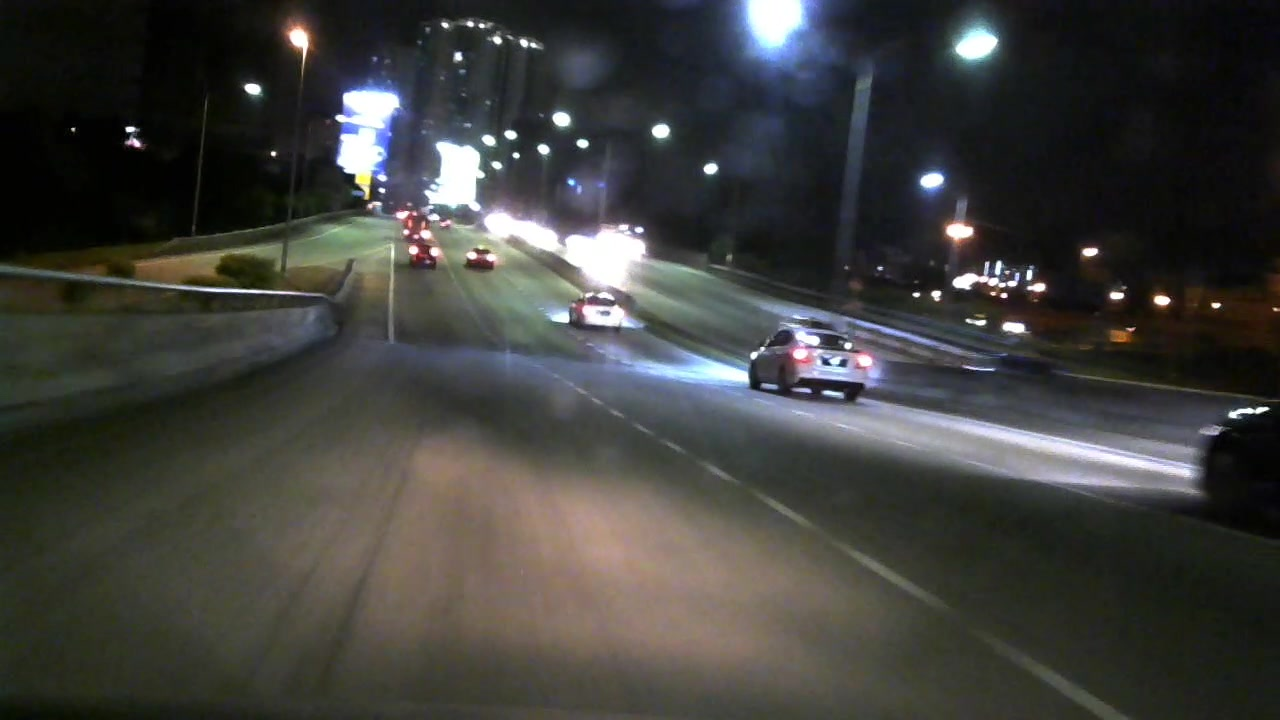Car: (1171, 380, 1280, 522), (737, 316, 873, 405), (568, 277, 626, 340), (409, 241, 436, 275), (467, 245, 496, 271), (400, 210, 426, 233)
